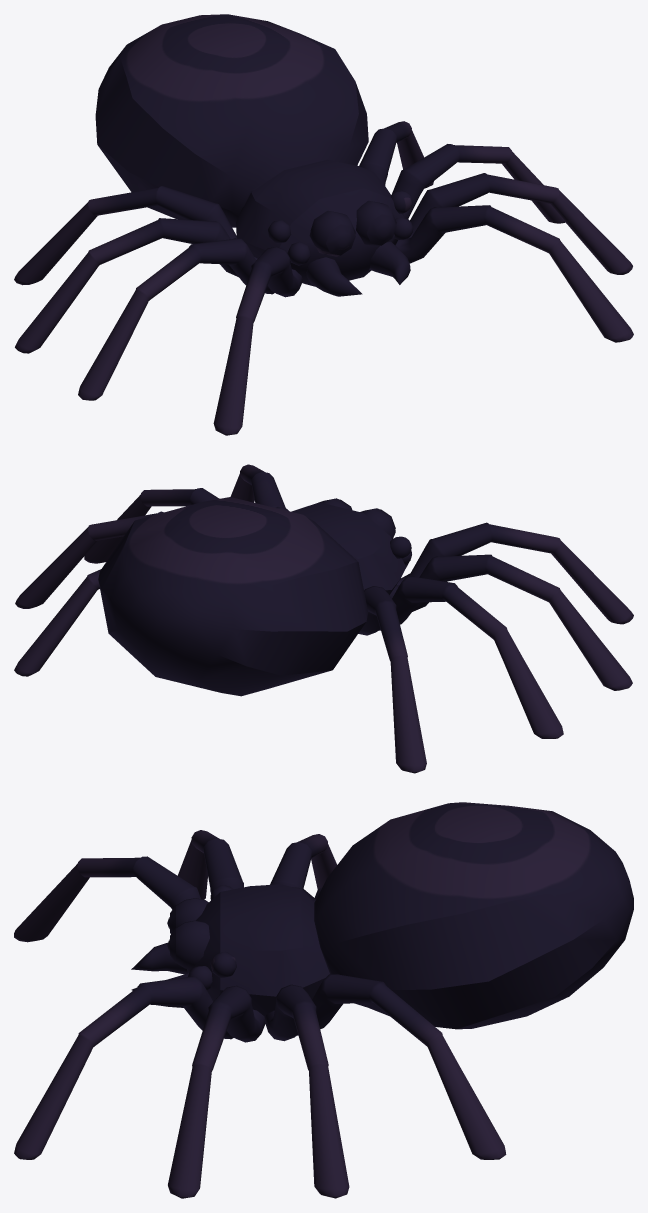
Rendered from SpiderDefault.fbx.
The picture shows the model from 3 angles, top to bottom: view 1: azimuth 30°, elevation 25°; view 2: azimuth 150°, elevation 25°; view 3: azimuth 270°, elevation 25°; orthographic projection. The views are drawn at different scales.
Visible parts, largest first — view 1: Spider1; view 2: Spider1; view 3: Spider1.
Boxes of the visible parts, x1,y1,x2,y2 form: Spider1: (14, 14, 633, 435); Spider1: (14, 464, 633, 773); Spider1: (14, 802, 633, 1198).
Bounding box in the file's own units: 94.29 × 32.65 × 80.95.
1 material, 1 textured.
